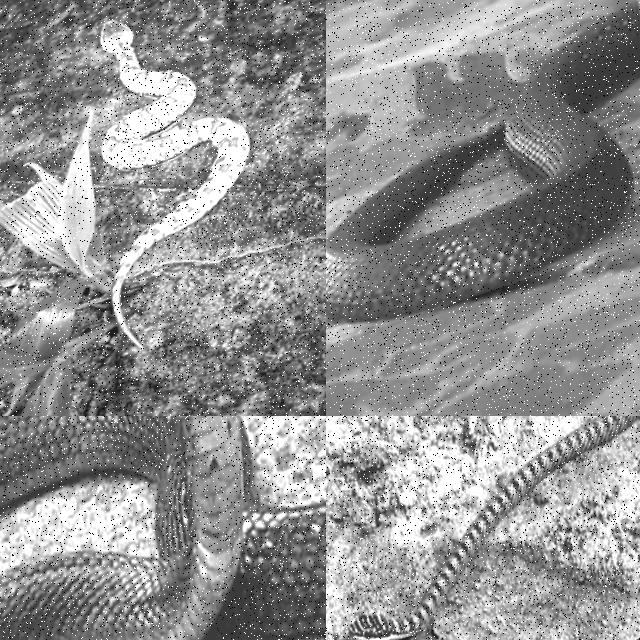Chrysopelea ornata: (349, 416, 639, 639)
Naja kaouthia: (326, 0, 639, 321)
Naja siamensis: (0, 416, 325, 639)
Ovophis monticola: (101, 21, 250, 347)
